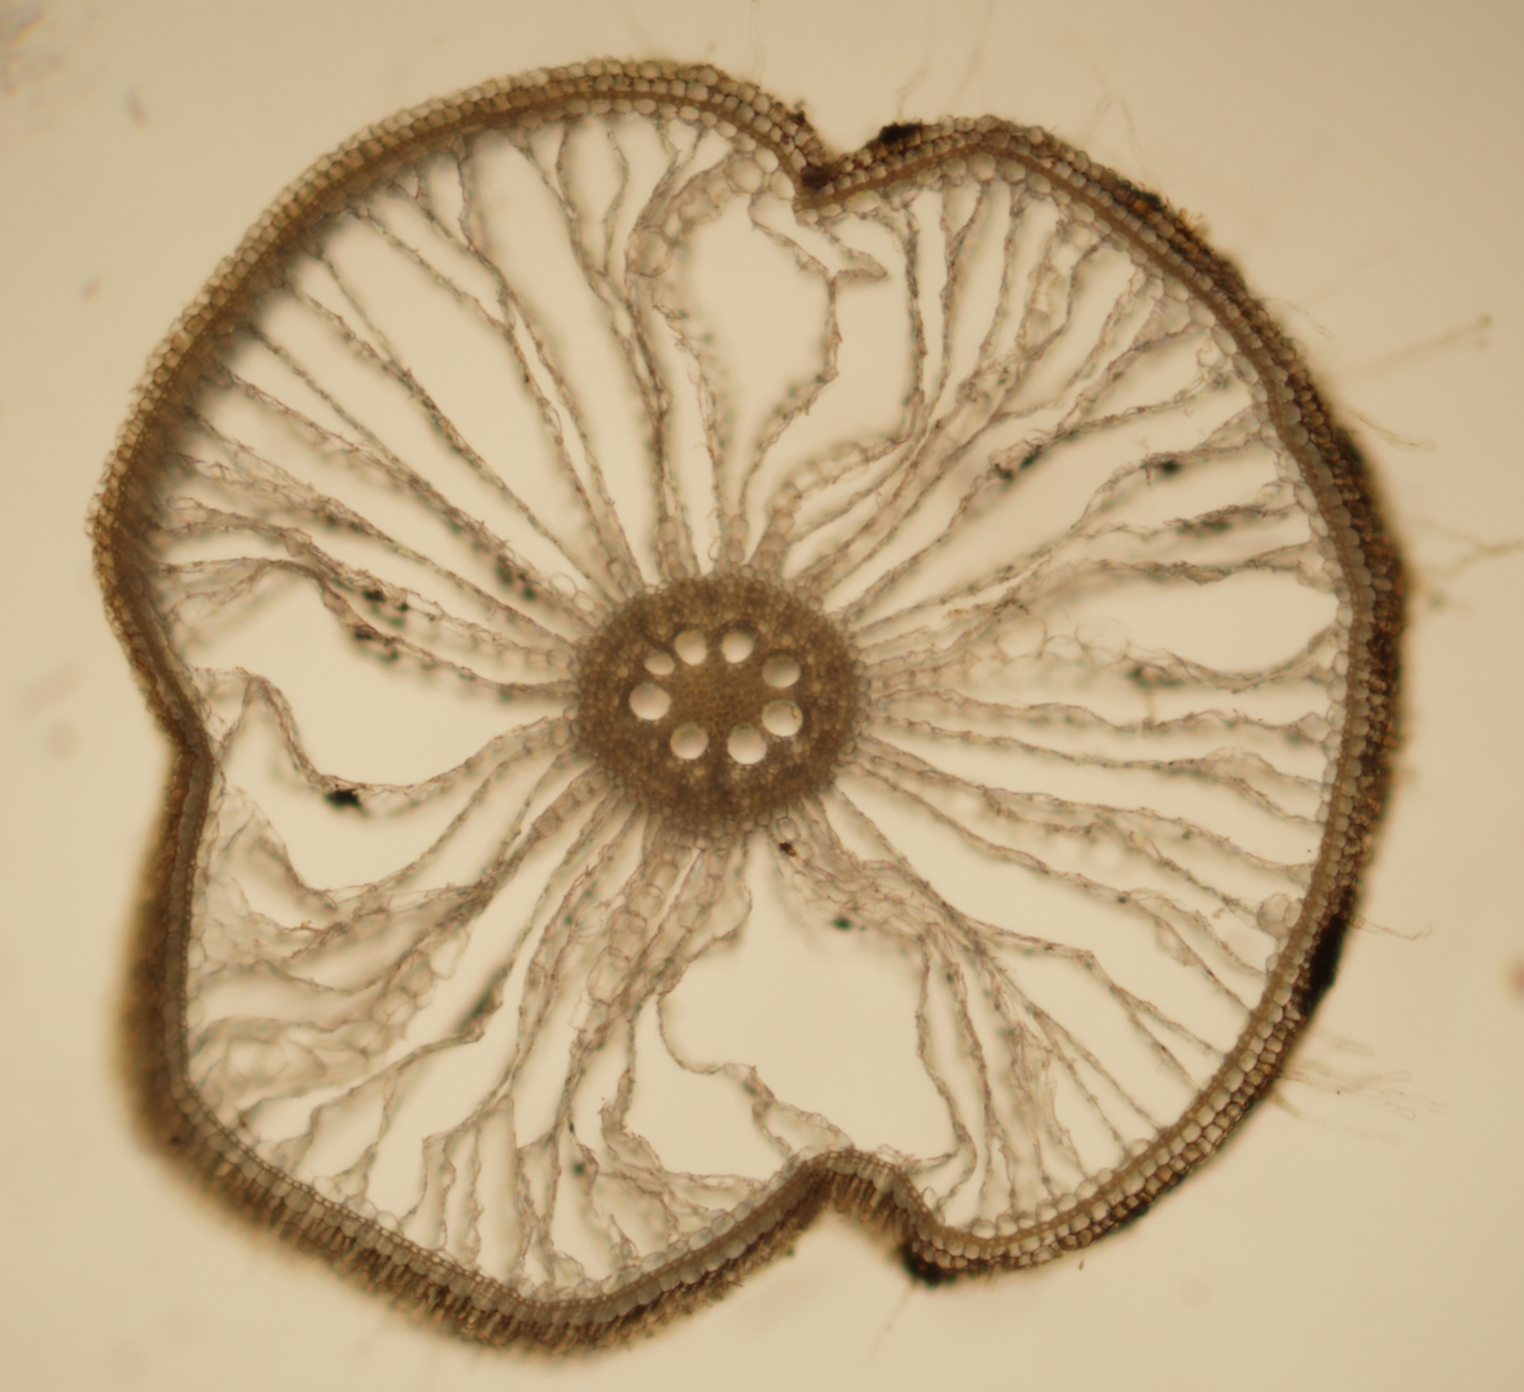lm: (726, 722, 766, 764), (628, 682, 670, 721), (761, 699, 802, 736), (669, 722, 709, 759), (762, 654, 800, 687), (720, 628, 754, 663), (673, 629, 706, 666), (643, 648, 674, 675)
